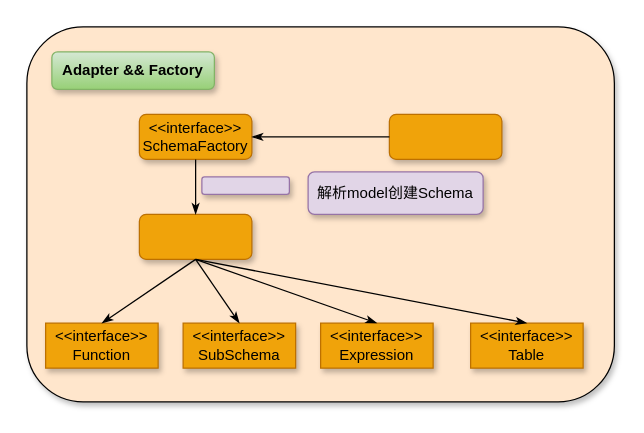
Some shapes in this 644 by 433 pixel diagram are drawn without their labels. Here are the shapes that lost their labels. From the top down, the centre of each, then its label:
At point 446,138: "<<JSON>> Model".
At point 246,187: "instantiates".
At point 196,238: "<<interface>> Schema".
